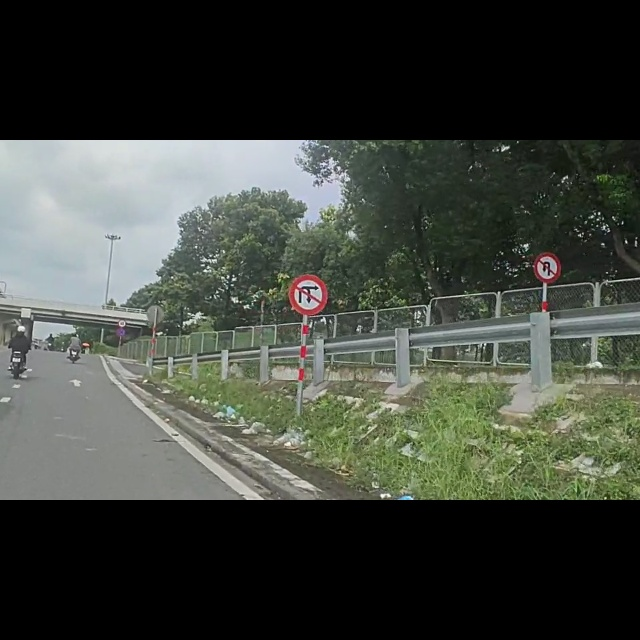bien_cam: (289, 238, 327, 313), (533, 199, 562, 255), (116, 334, 126, 348), (119, 319, 127, 332)
